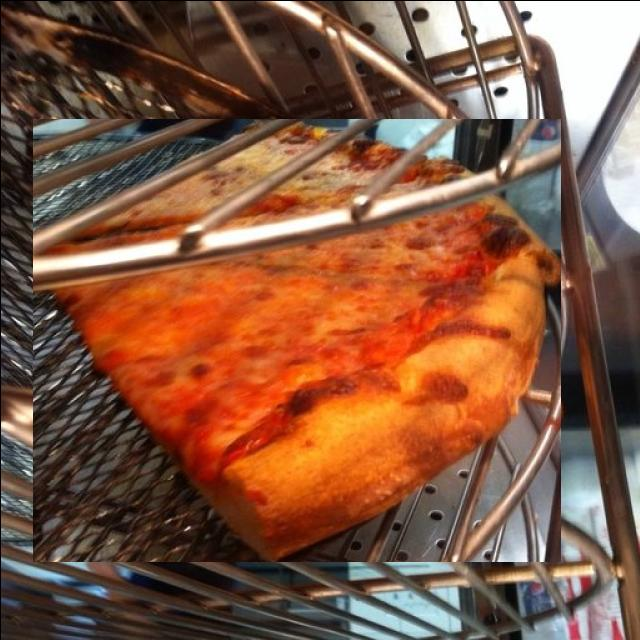pepperoni: (32, 118, 560, 561)
